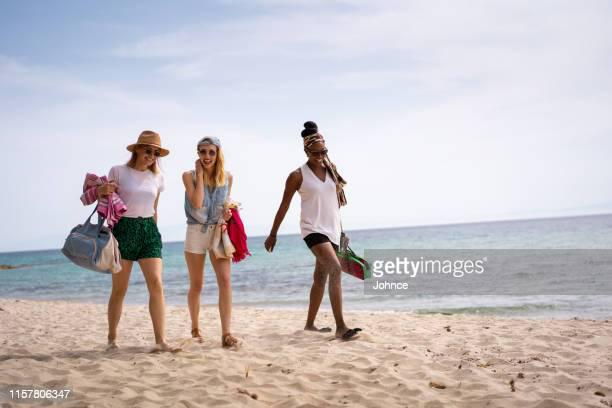without_mask: (292, 120, 334, 169), (124, 129, 173, 171), (195, 133, 229, 172)
